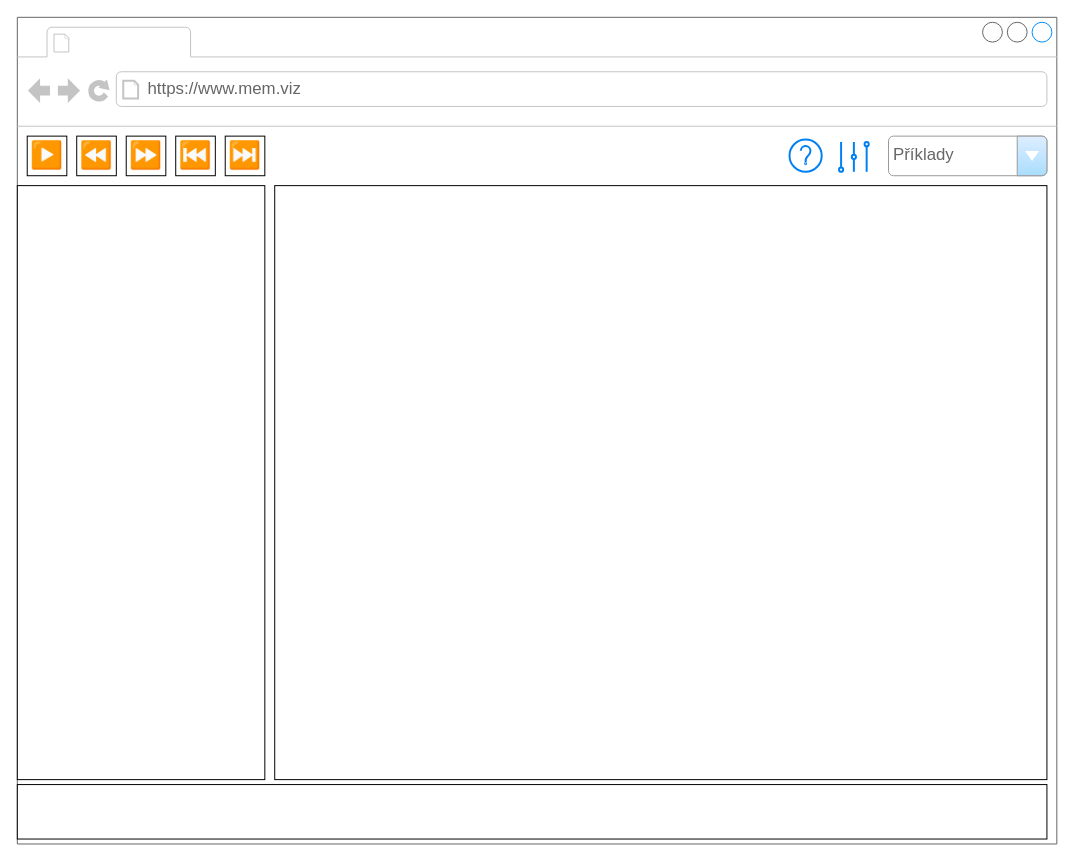
Some shapes in this 1074 by 861 pixel diagram are drawn without their labels. The centre of each missing label's shape, as x and y in pixels:
"Editor kódu" belongs at pixel 140 482.
"MEMVIZ" belongs at pixel 131 41.
"Vizualizace paměti" belongs at pixel 660 482.
"Výstup" belongs at pixel 531 811.
